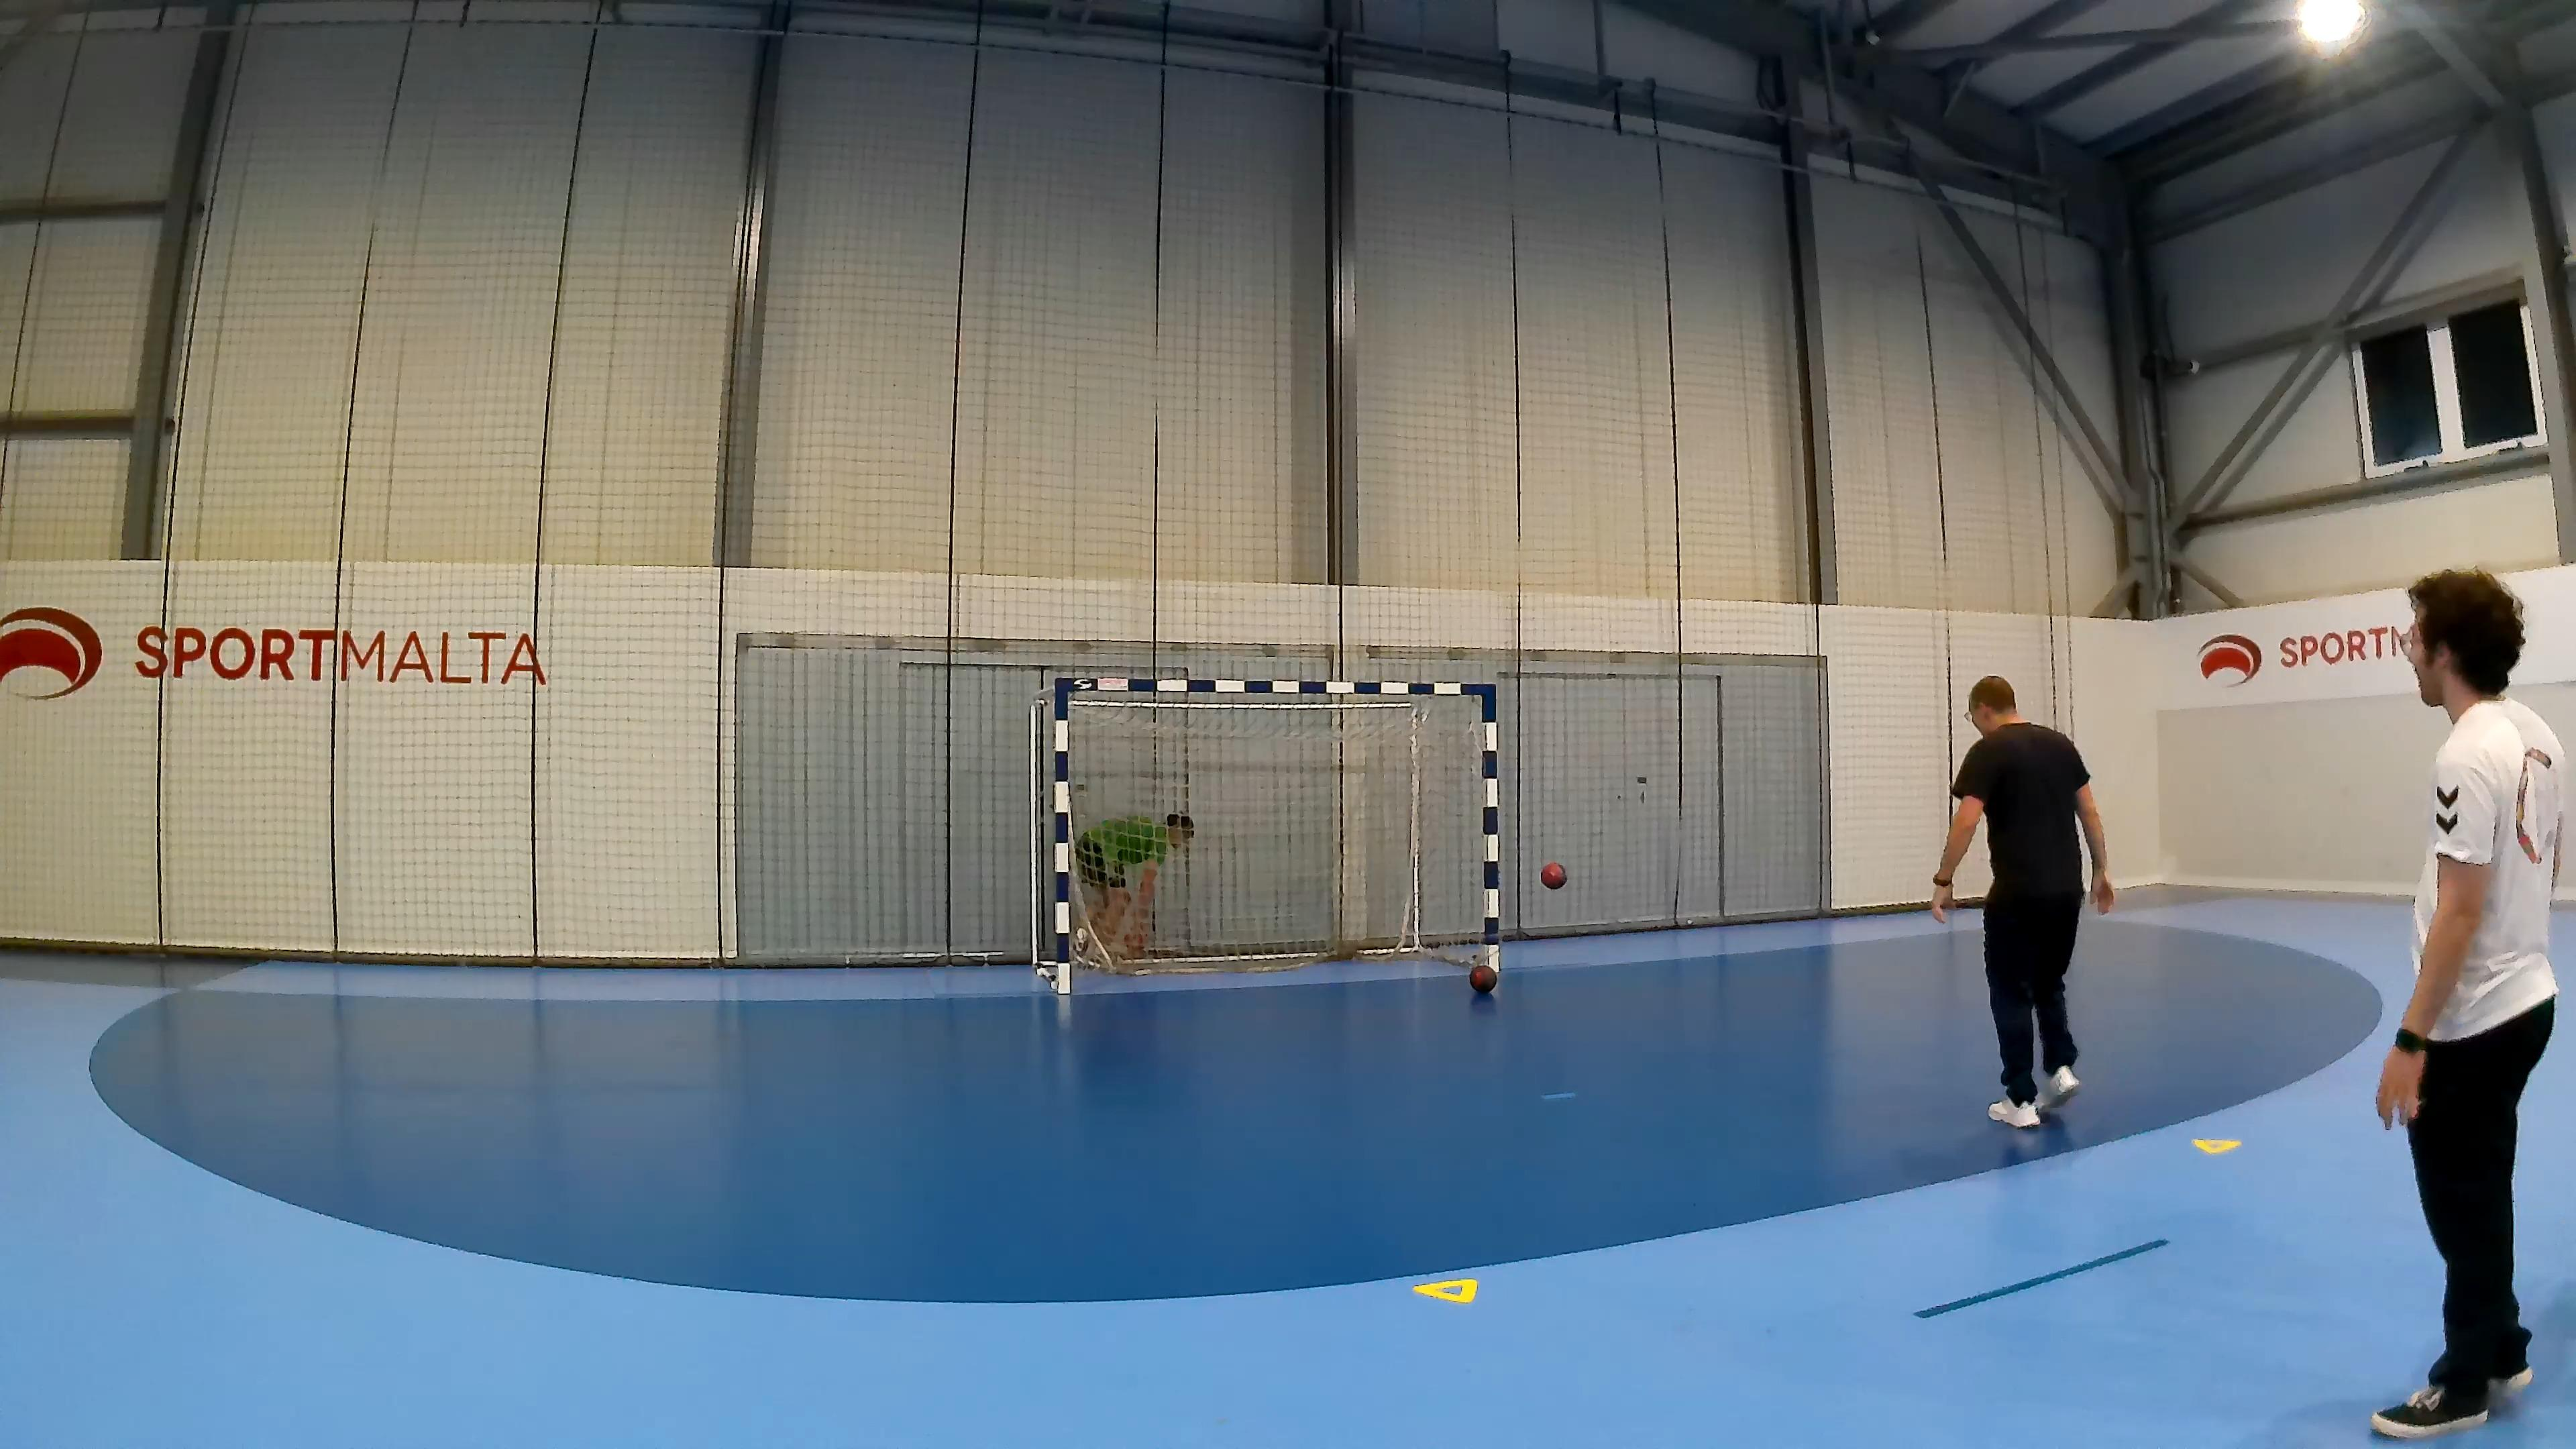handball: (1468, 962, 1497, 993), (1539, 860, 1568, 890)
